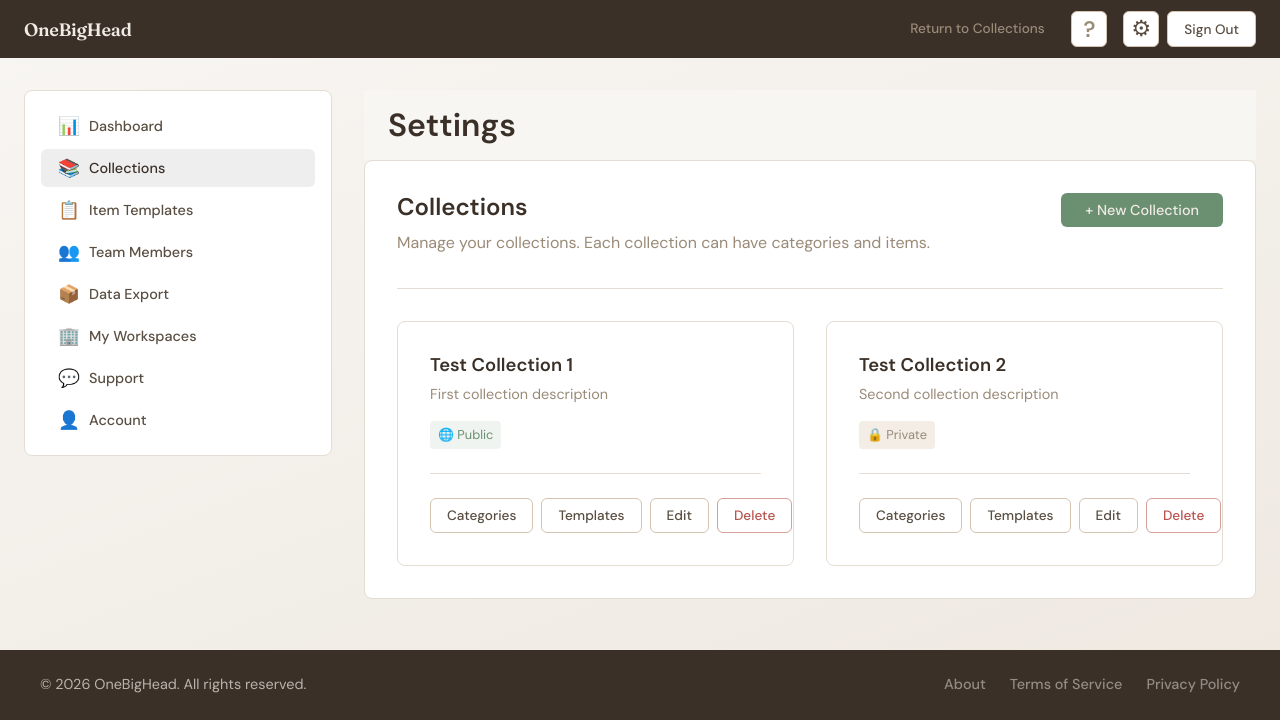
Test: SettingsView › collections section - edit mode › should show Manage Templates button in edit mode
The width and height of the screenshot is (1280, 720).
Click the button "Edit" below "🌐 Public". click: x=679, y=515
box: left=650, top=498, right=709, bottom=533
(page scrolled)
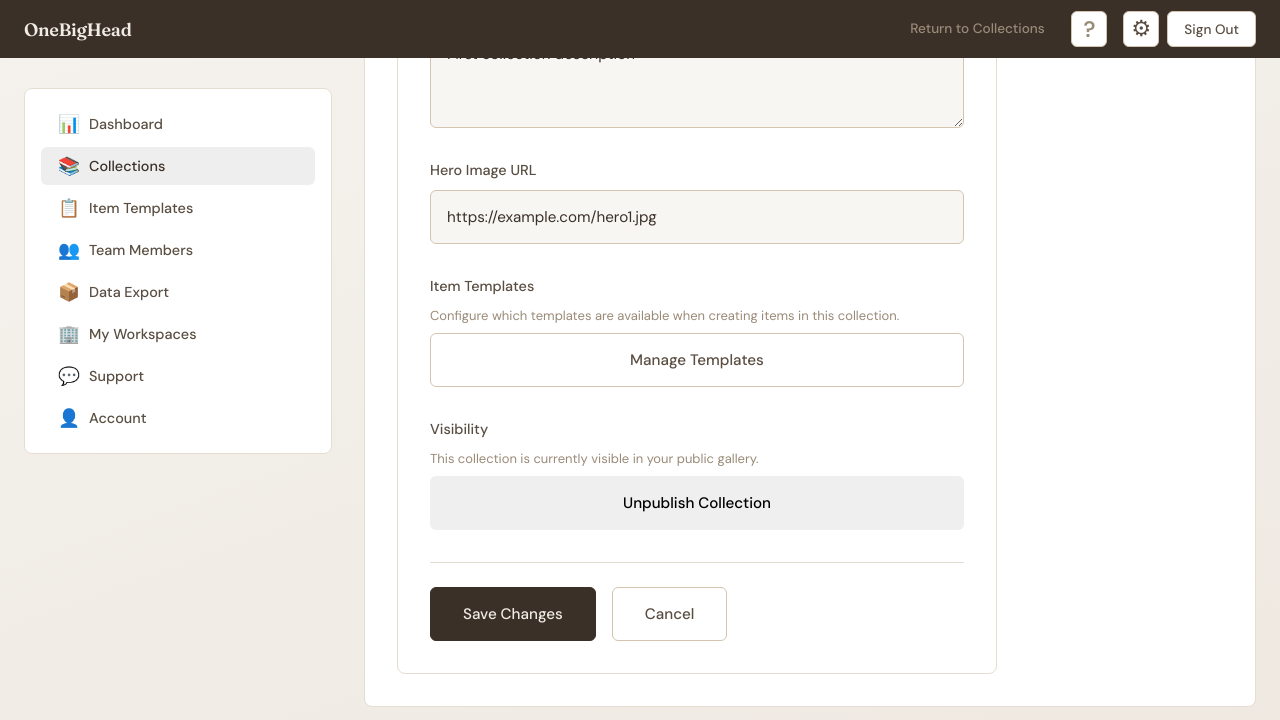
expect the button "Manage Templates" is shown: met, box left=430, top=333, right=964, bottom=387
